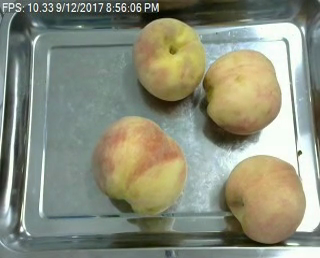Peach: (92, 114, 187, 215), (223, 154, 306, 243), (204, 48, 281, 135), (134, 18, 205, 101)
